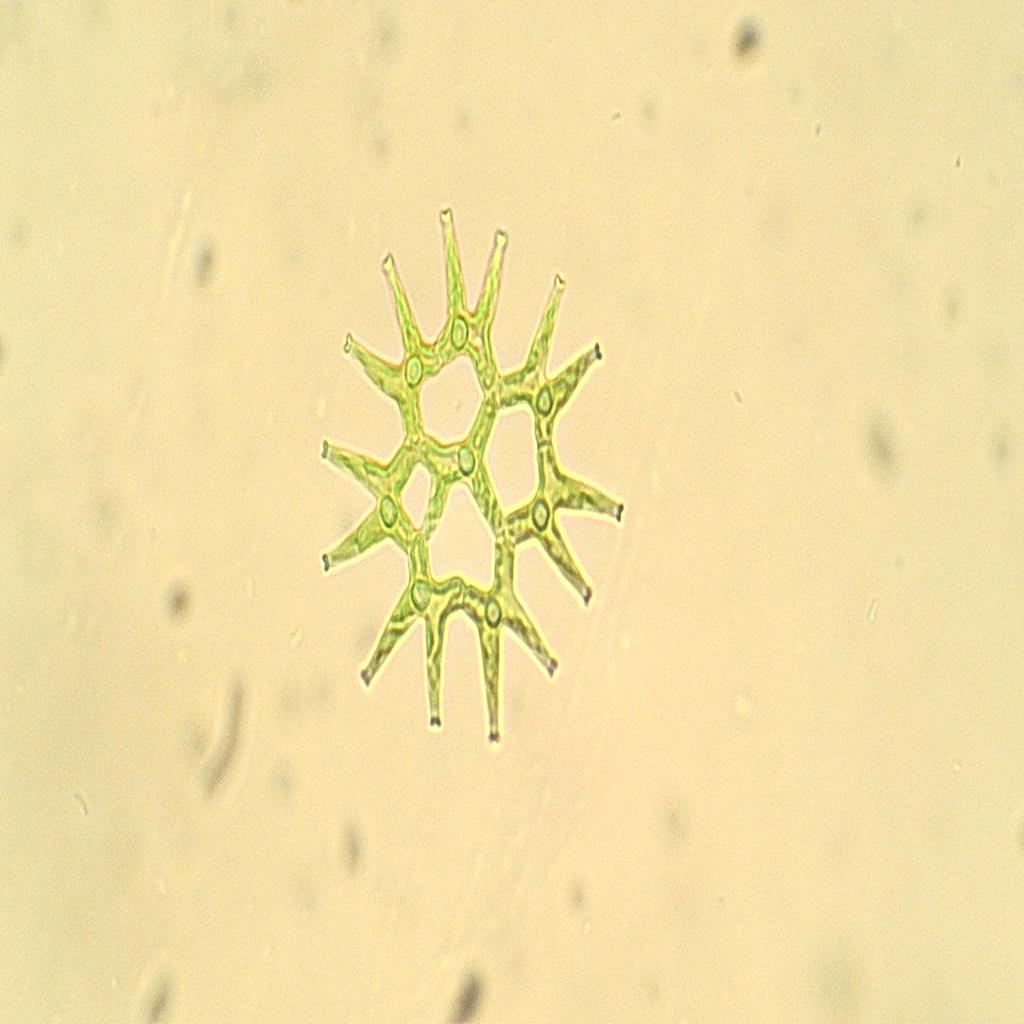Pediastrum_CTH: (302, 176, 630, 785)
